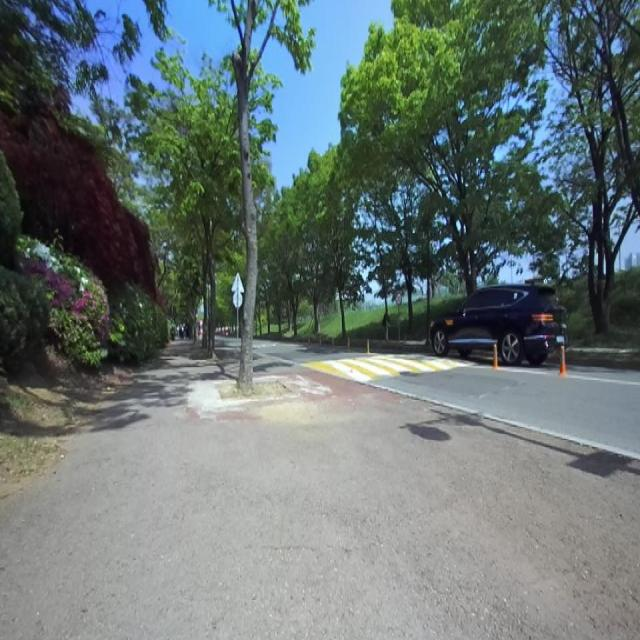sidewalk: (0, 340, 640, 639)
